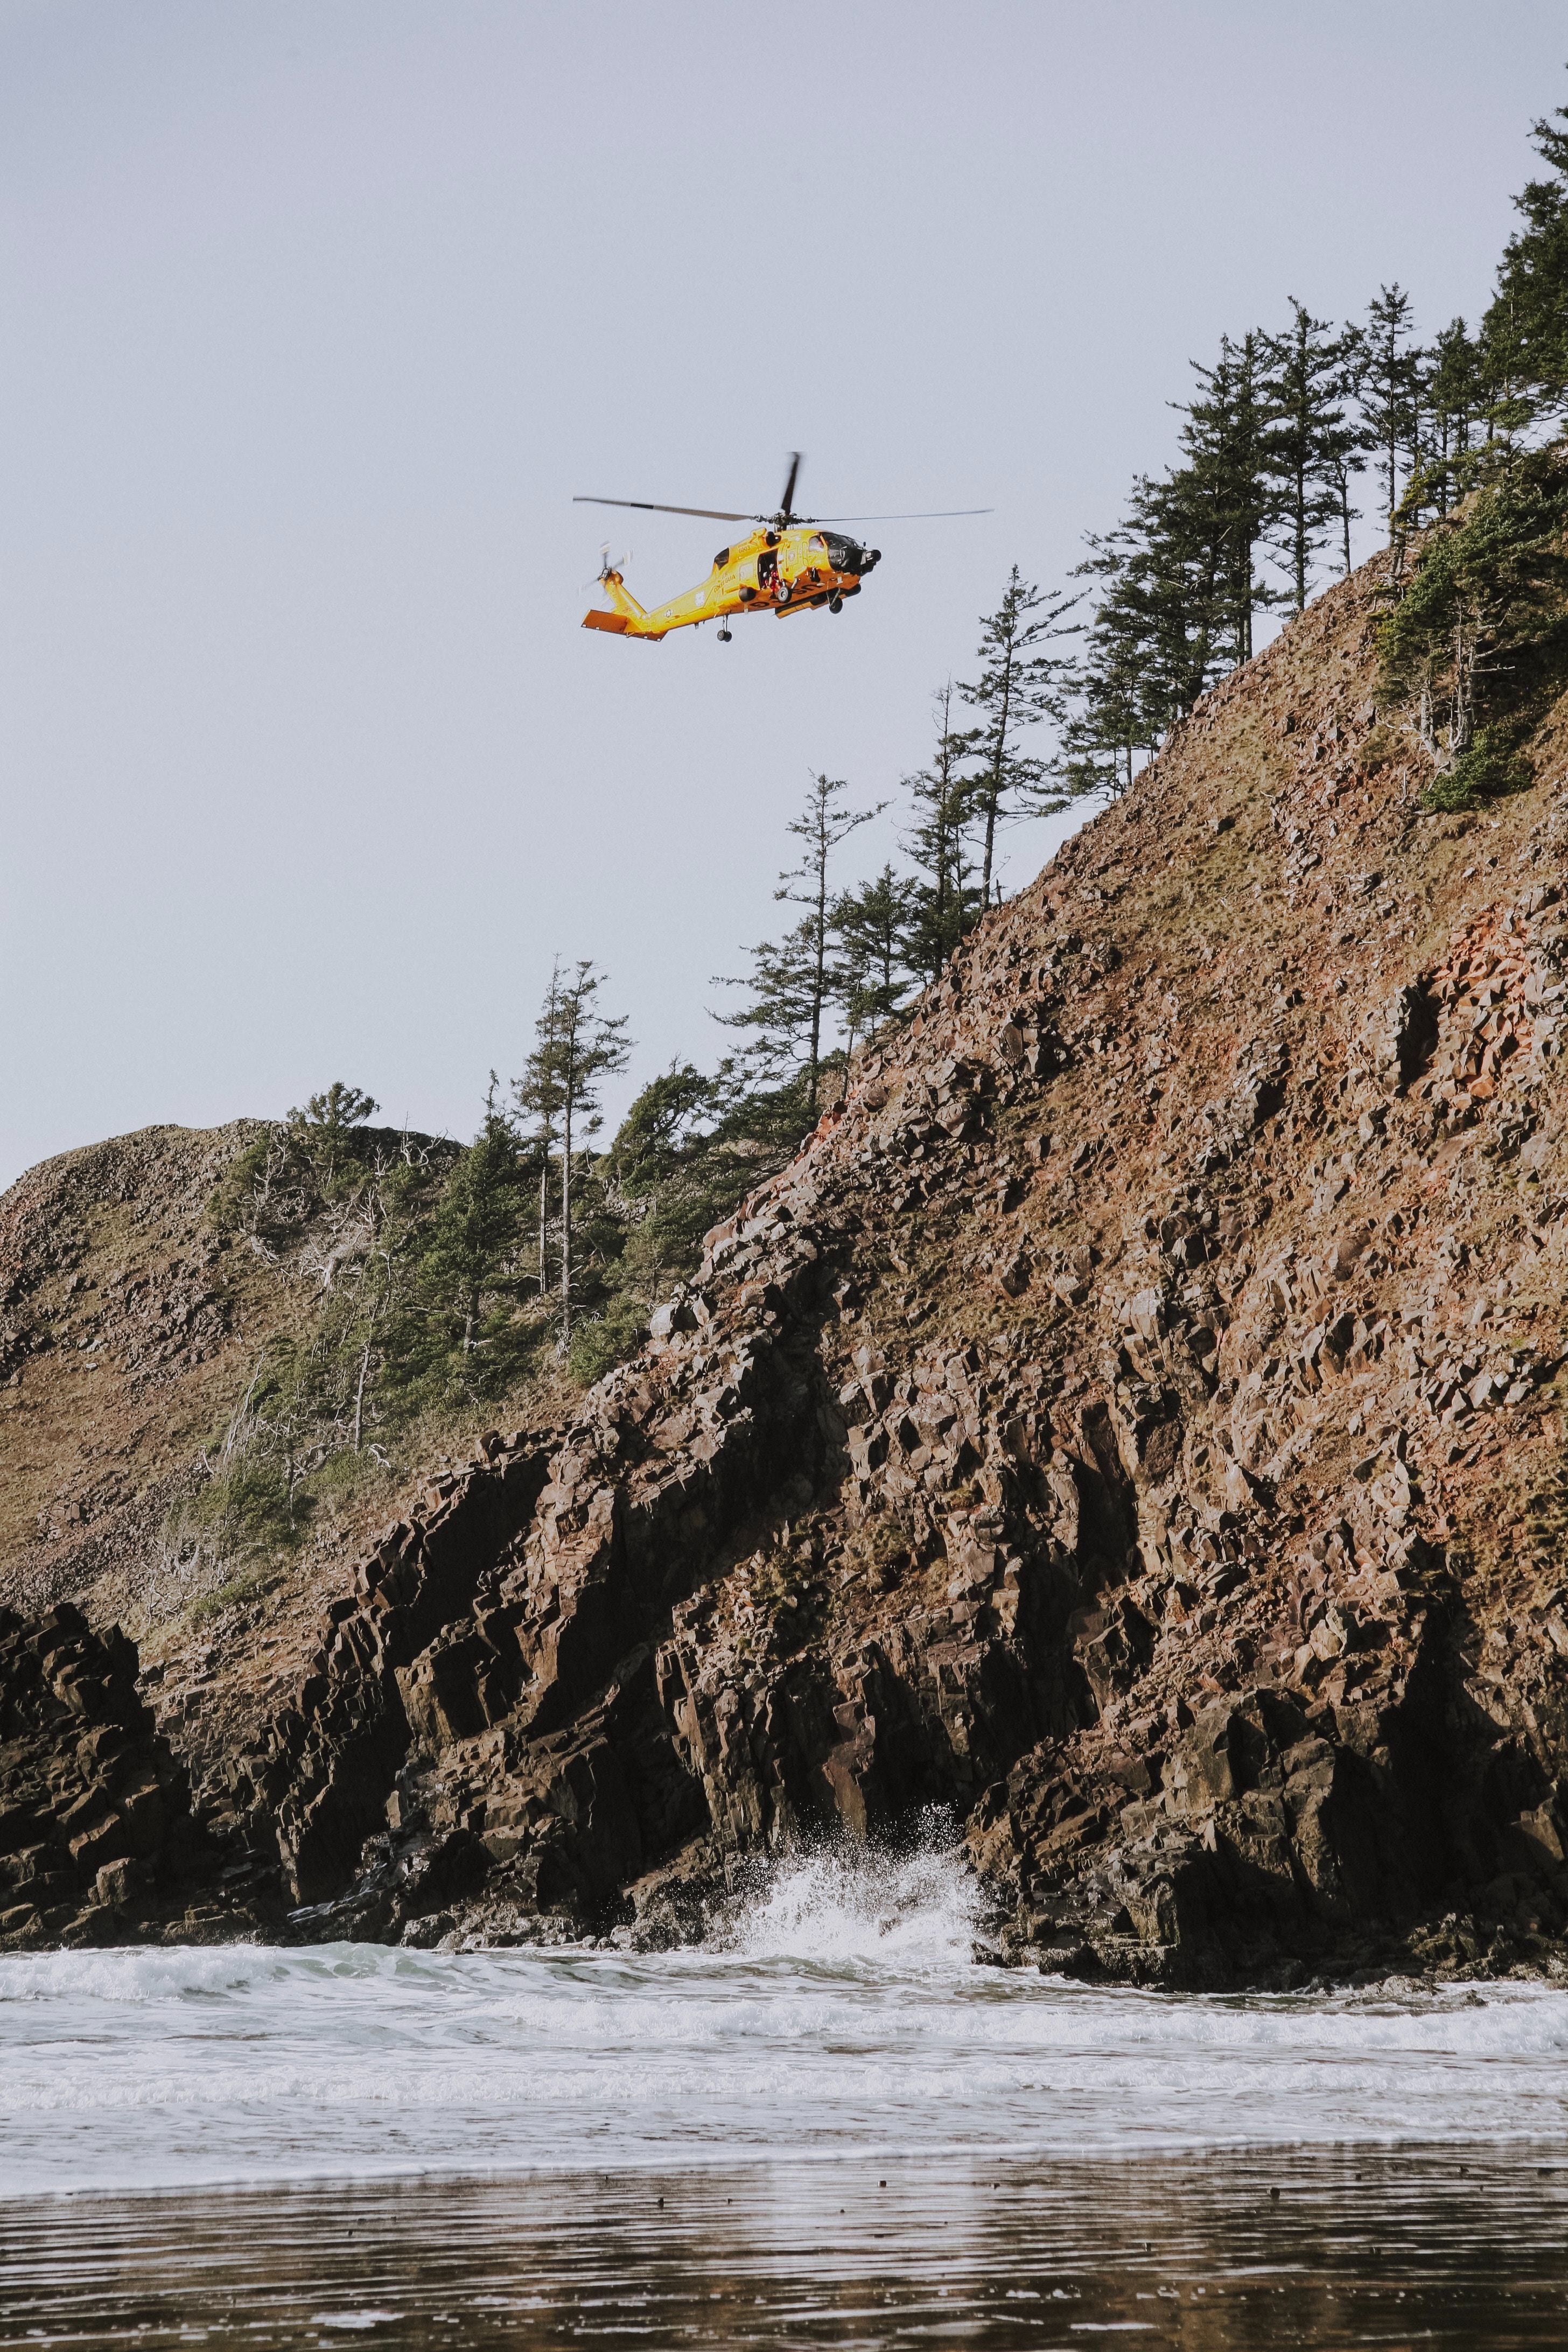helicopter: (506, 331, 1057, 726)
